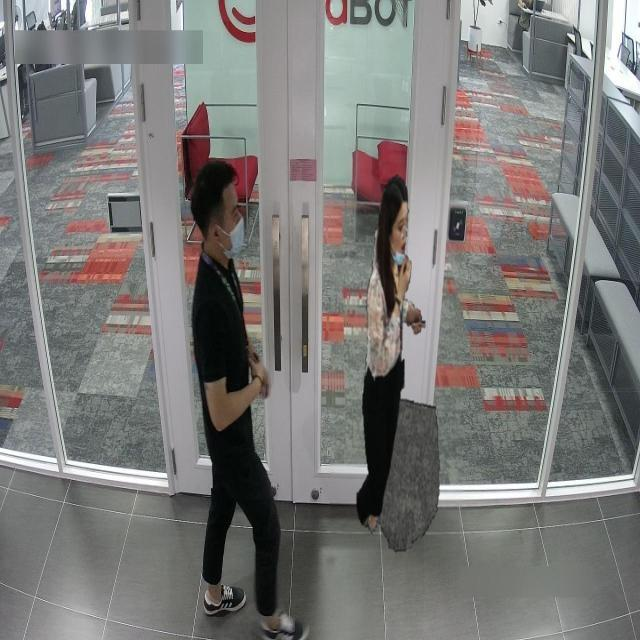hairnet: (390, 202, 408, 265)
